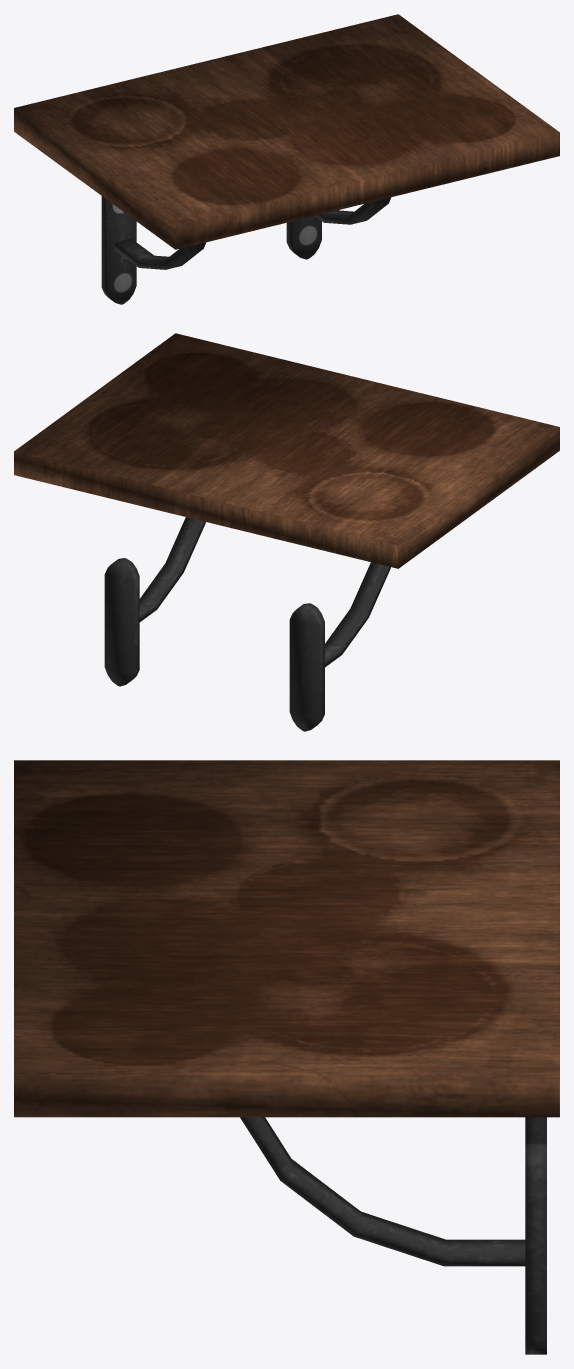
File: wallShelf.glb
3 views of the same model, one above another, from view 1: azimuth 30°, elevation 25°; view 2: azimuth 150°, elevation 25°; view 3: azimuth 270°, elevation 25° (orthographic). The views are drawn at different scales.
Visible parts, largest first — view 1: g.010, g.009, g.008, g.007, g.006; view 2: g.010, g.009, g.007, g.006, g.008; view 3: g.010, g.006, g.007.
Part boxes in pixels (bbox=[...]): g.010: bbox=[14, 14, 559, 249]; g.009: bbox=[101, 196, 136, 304]; g.008: bbox=[115, 238, 206, 269]; g.007: bbox=[286, 216, 321, 259]; g.006: bbox=[315, 197, 391, 224]; g.010: bbox=[14, 333, 559, 568]; g.009: bbox=[289, 603, 324, 731]; g.007: bbox=[104, 558, 139, 686]; g.006: bbox=[139, 517, 205, 621]; g.008: bbox=[325, 562, 390, 667]; g.010: bbox=[14, 760, 559, 1117]; g.006: bbox=[240, 1117, 525, 1266]; g.007: bbox=[525, 1143, 546, 1354].
Size of the model in its own units: 1.39 by 0.7375 by 1.01.
Materials: 1 (1 with a texture image).
